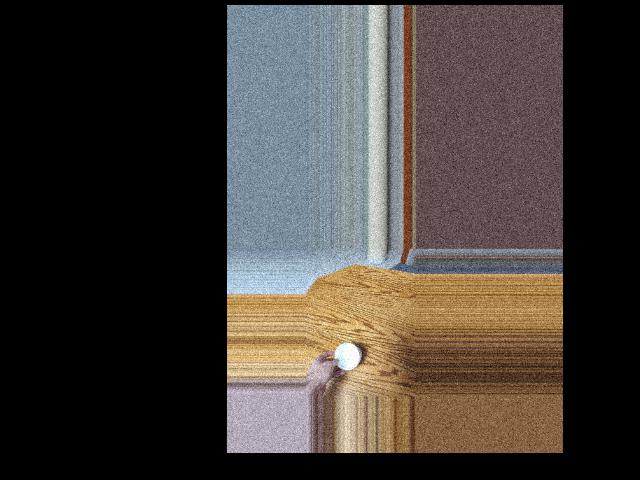cotage: (329, 336, 361, 372)
